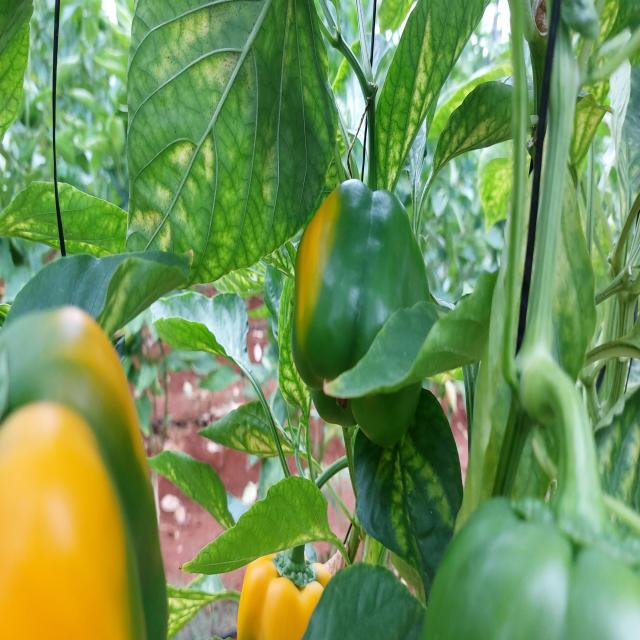Green--Not-ready-to-harvest: (446, 467, 640, 640)
GreenishYellow--Can-be-Harvested: (1, 305, 178, 640), (276, 162, 434, 428)
